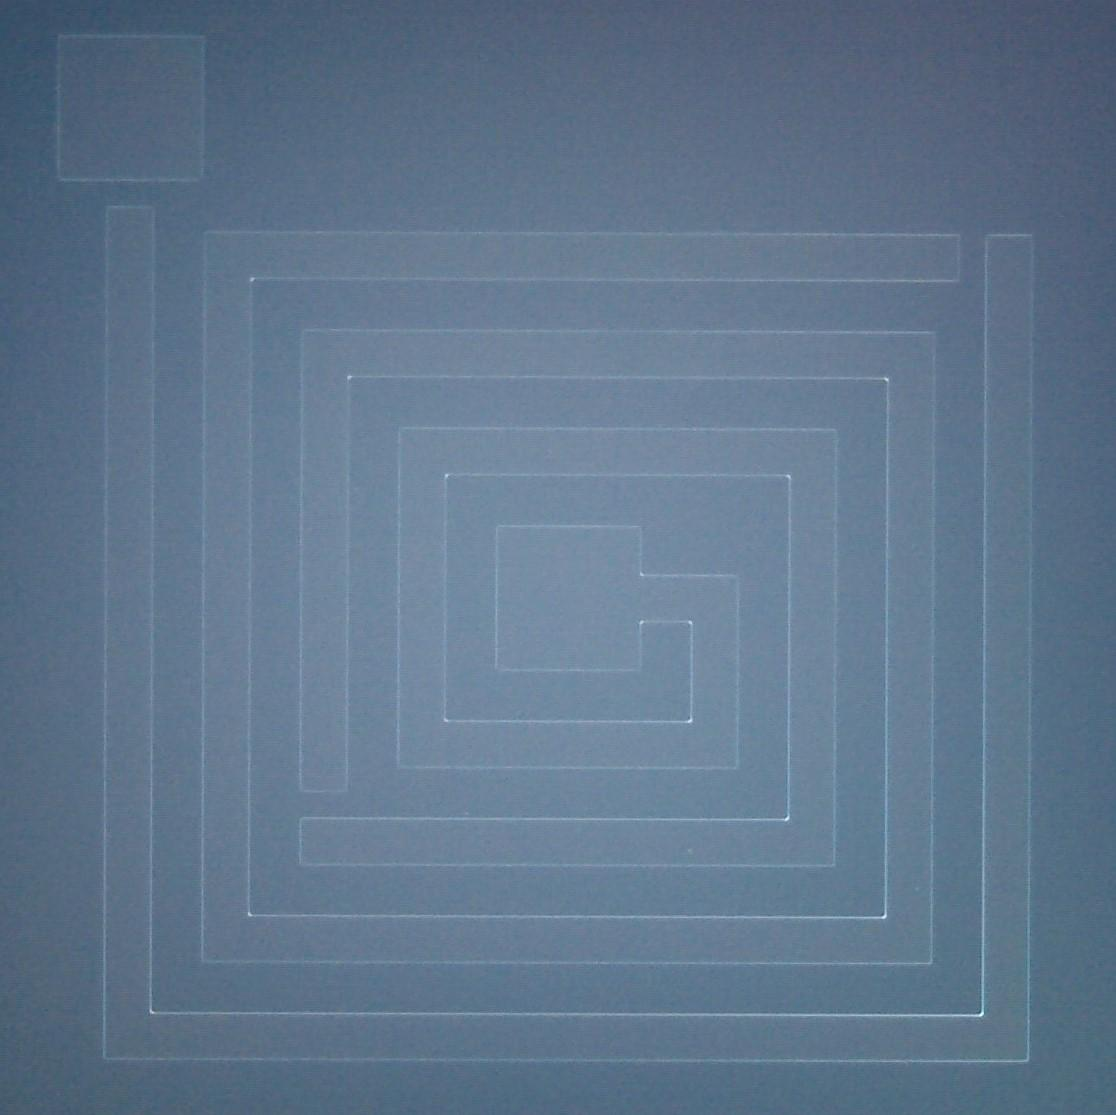cut: (46, 156, 213, 220), (930, 213, 1047, 298), (287, 762, 360, 881)
